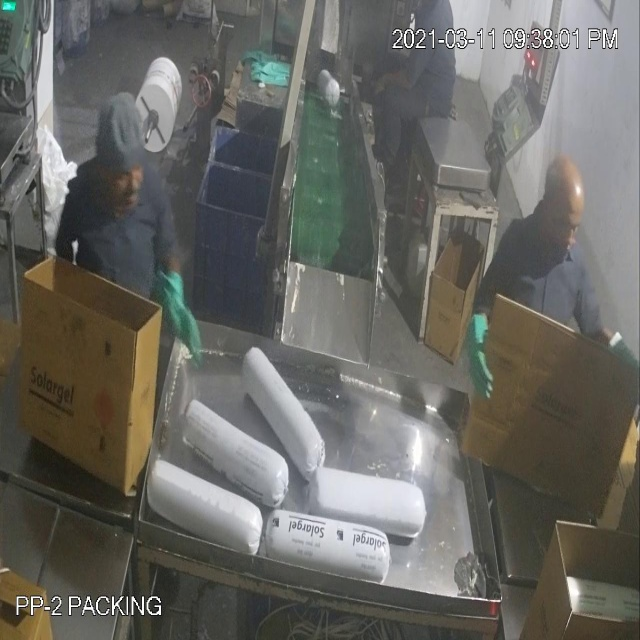Guantes: (151, 267, 204, 364), (463, 307, 498, 404)
Sin_guantes: (370, 55, 417, 107)
